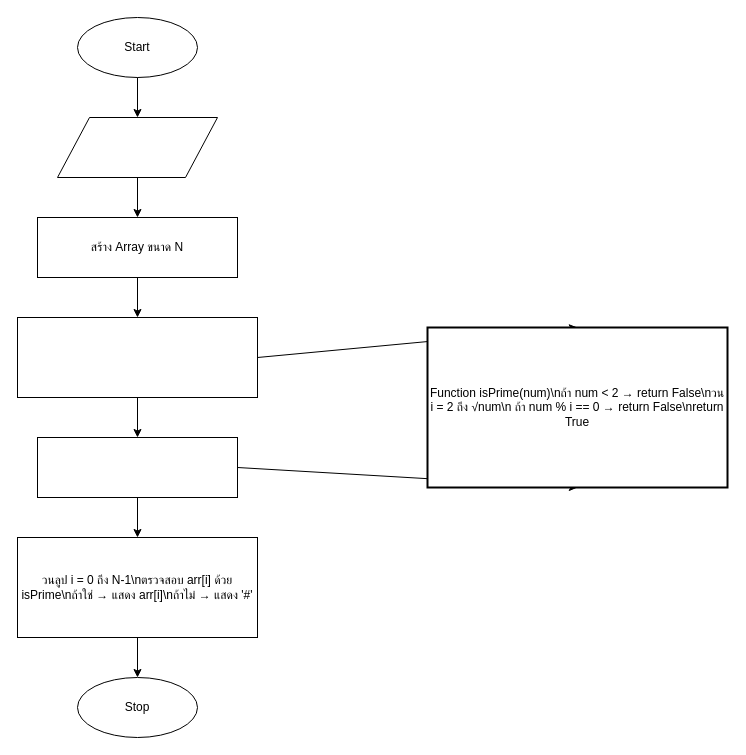
Some shapes in this 746 by 755 pixel diagram are drawn without their labels. Each missing label, with the centre of its shape:
รับค่า N: the point at 137,147
วนลูป i = 0 ถึง N-1\nรับค่า arr[i]: the point at 137,357
แสดง Index ของ Array: the point at 137,467
